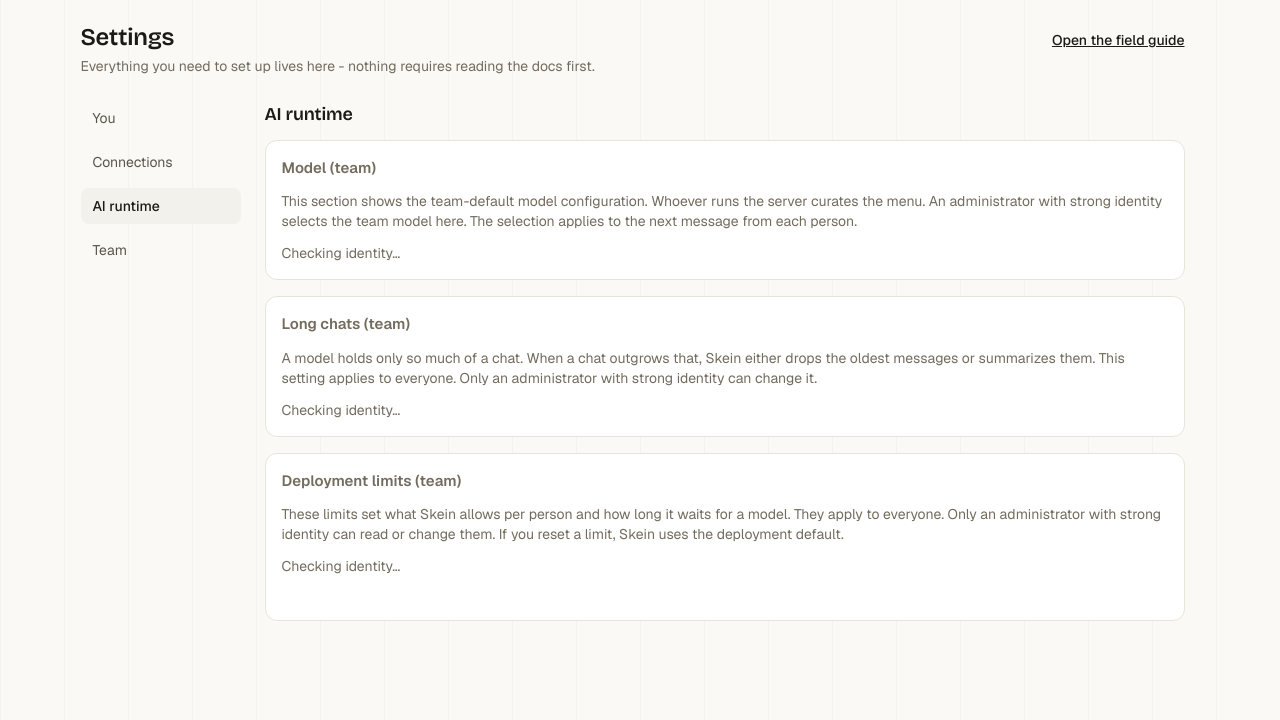
Test case: the reasoning section › keeps the pending choice focusable and refuses a second write while one is open
The image size is (1280, 720).
Click the link "AI runtime": {"x": 160, "y": 206} [80,188,240,224]
(page scrolled)
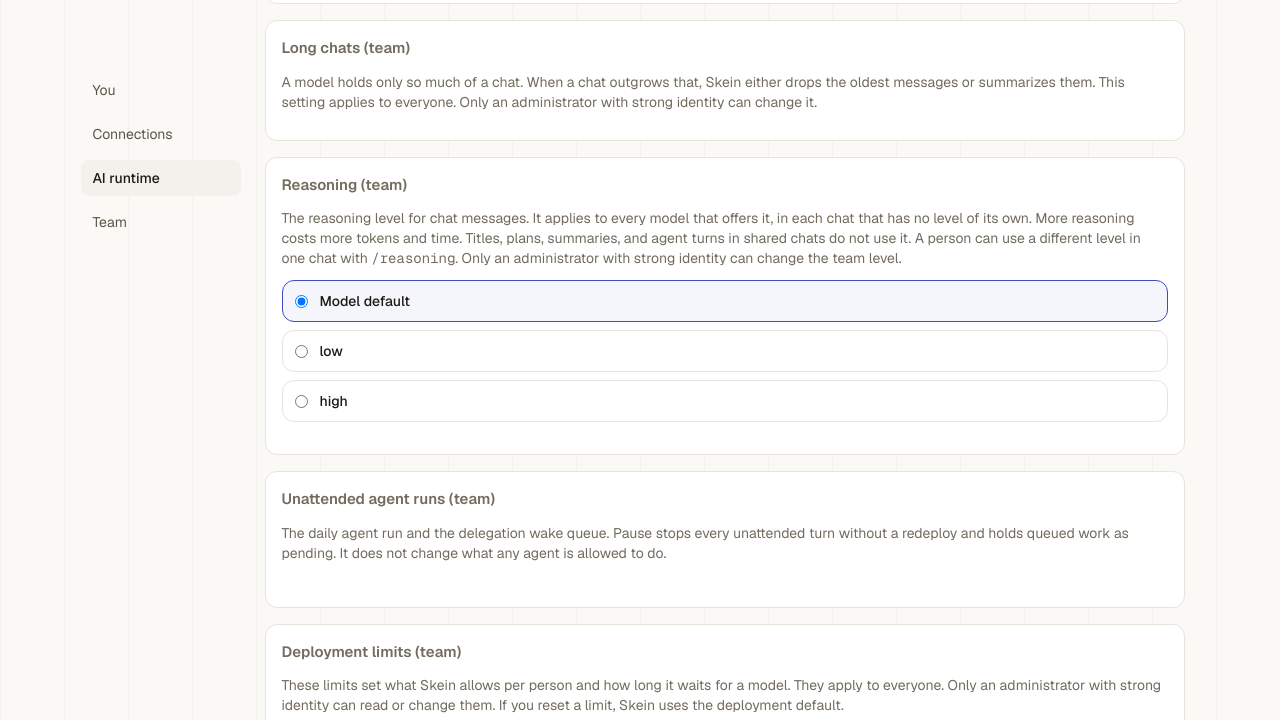
Click the radio button labelled "high": {"x": 301, "y": 401} [294,395,308,408]
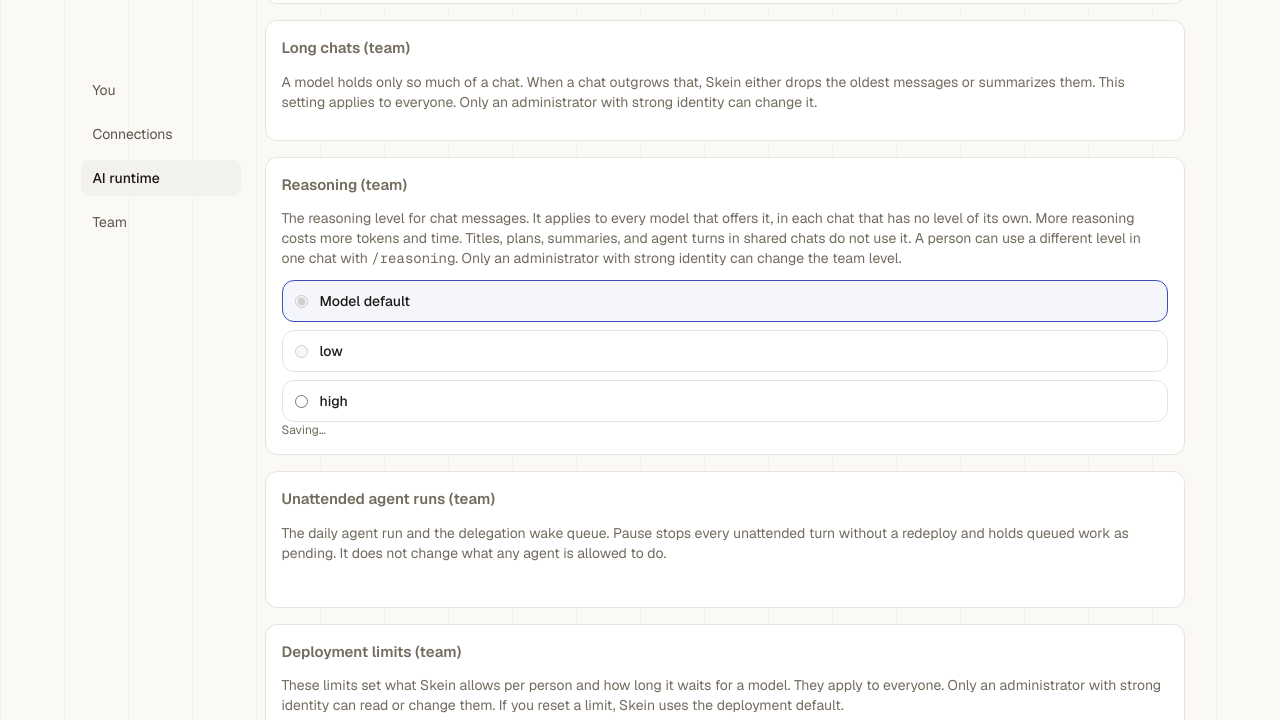
Expected: the radio button labelled "high" is enabled, [294,395,308,408]
Expected: the text "Saving…" is shown, [282,422,326,438]
Expected: the radio button labelled "low" is disabled
Click the radio button labelled "low": {"x": 301, "y": 351} [294,345,308,358]
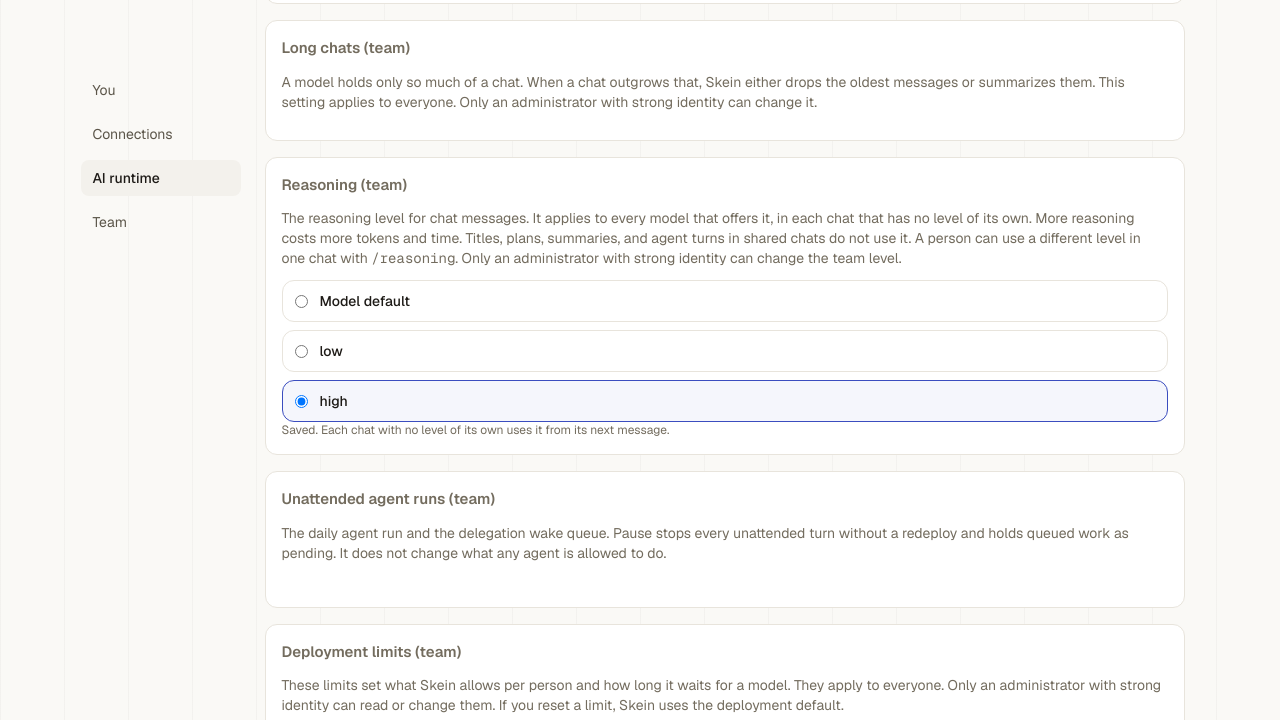
Expected: the text "Saved. Each chat with no level of its own uses it from its next message." is shown, [282,422,669,438]
Expected: the radio button labelled "low" is enabled, [294,345,308,358]
